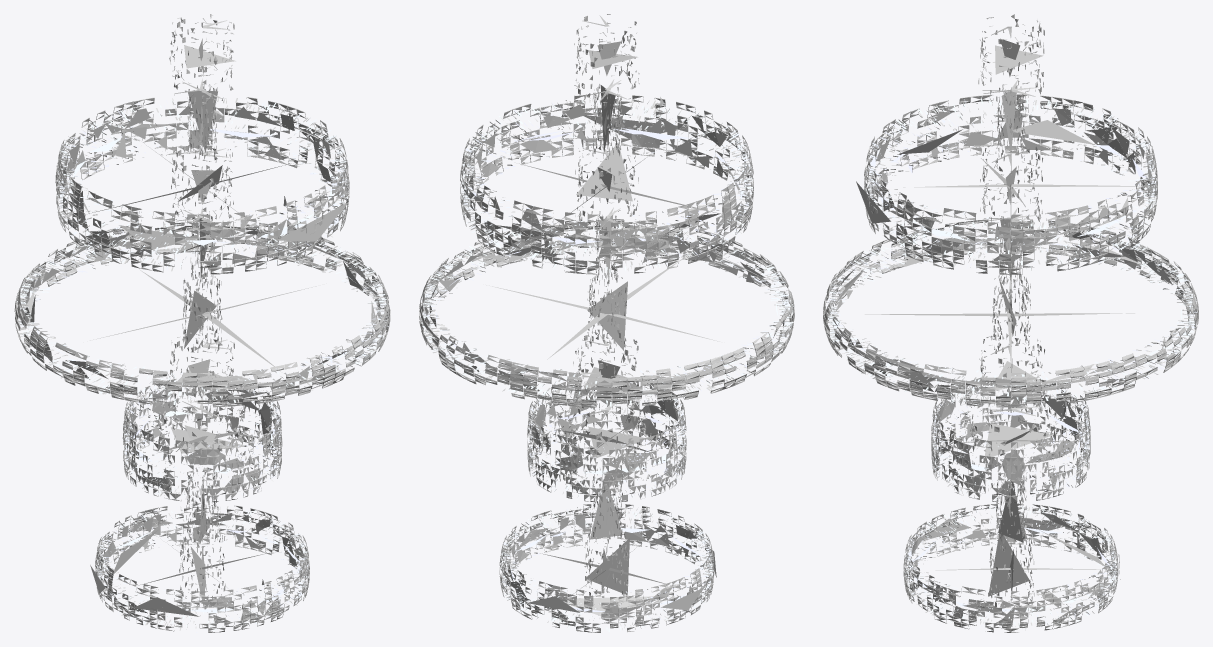
Rendered from spacestation.glb.
The picture shows the model from 3 angles, left to right: view 1: azimuth 30°, elevation 25°; view 2: azimuth 150°, elevation 25°; view 3: azimuth 270°, elevation 25°; orthographic projection.
Parts seen in each view (by area): view 1: Space station; view 2: Space station; view 3: Space station.
Part boxes in pixels (bbox=[...]): Space station: bbox=[14, 14, 390, 632]; Space station: bbox=[419, 14, 794, 632]; Space station: bbox=[823, 14, 1198, 632].
Bounding box in the file's own units: 5.34 × 9.01 × 5.34.
